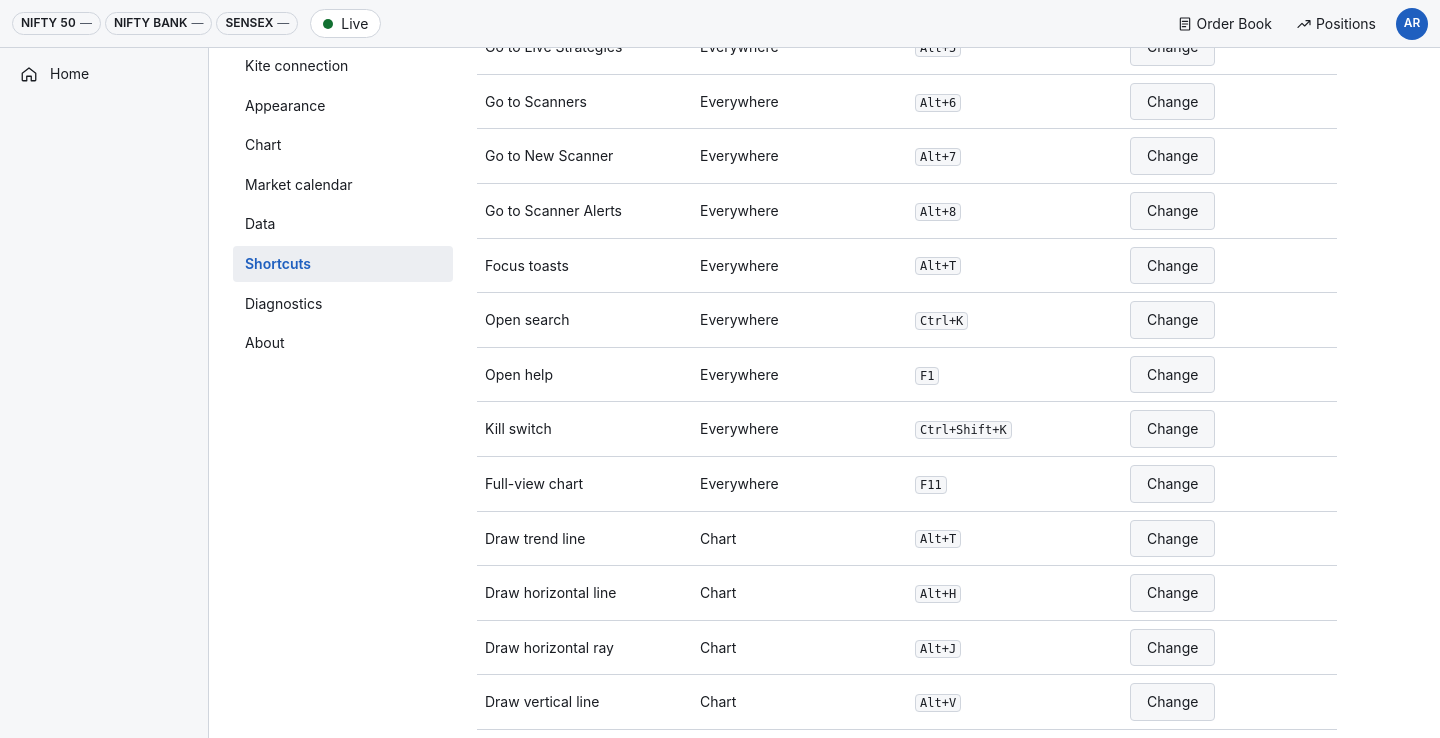
Test case: FR-SHELL-019 Settings → Shortcuts › Task 6 carry-forward: a key Go does not accept (NumpadAdd, IntlBackslash) is explained and cannot be saved
(page scrolled)
Click the button named "Change shortcut for Kill switch" at (1173,429), box top-left (1130, 410), bottom-right (1215, 448)
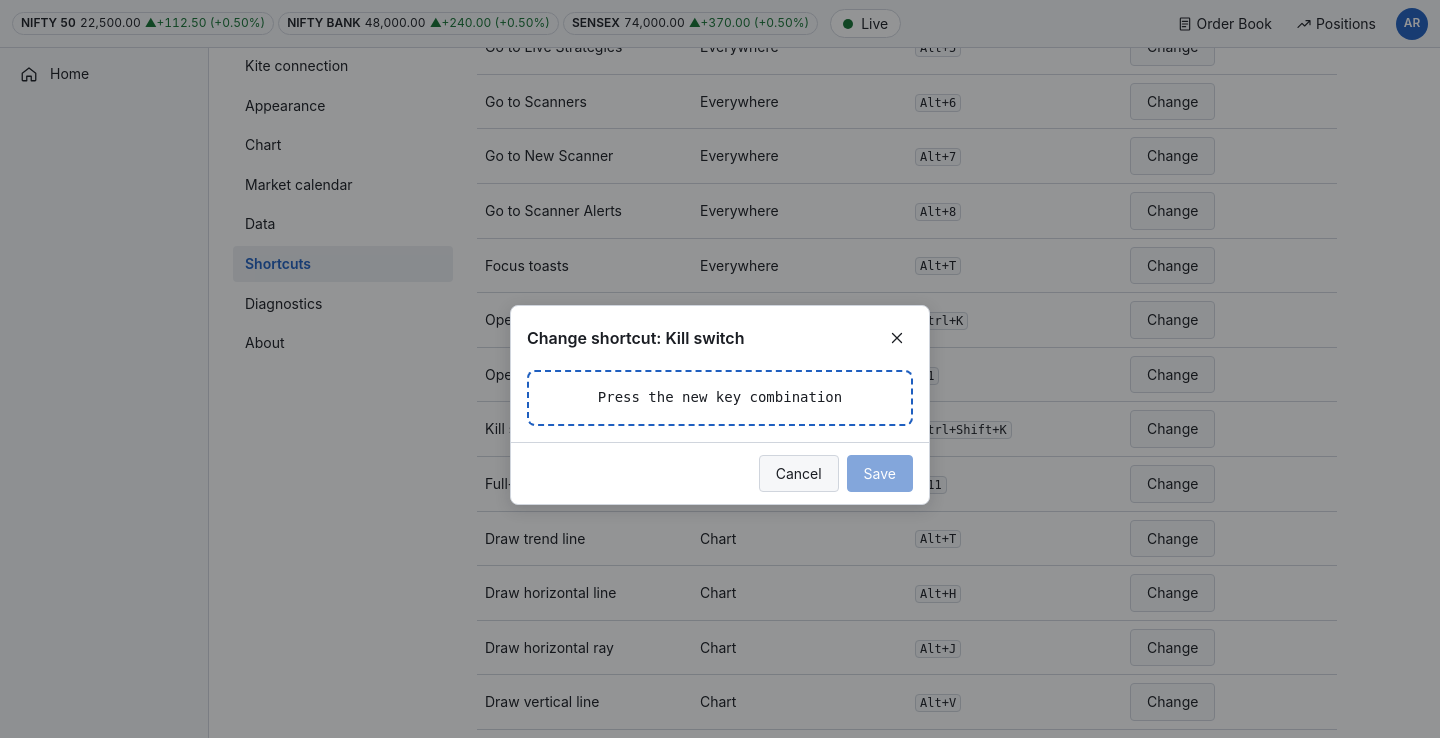
Press + in the field named "New shortcut", box top-left (527, 370), bottom-right (913, 426)
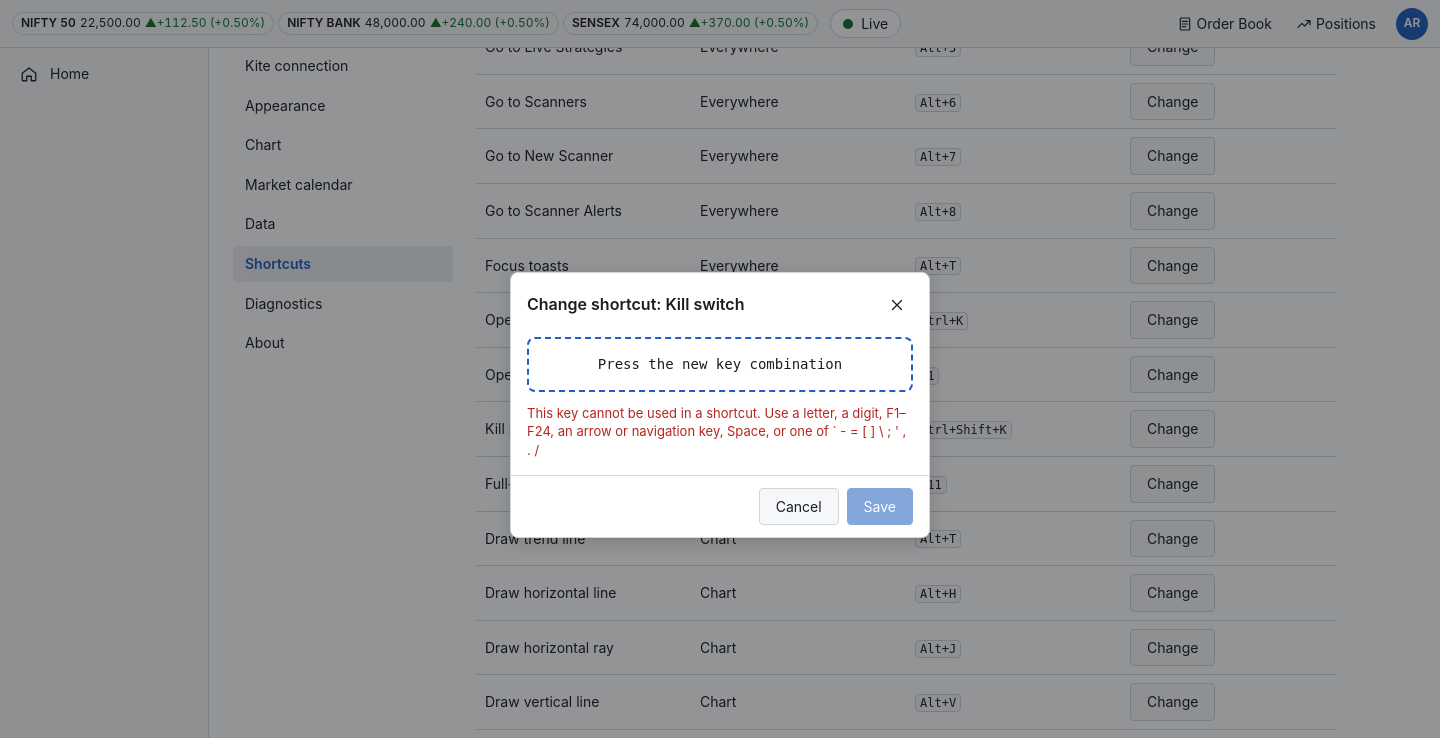
Expected: the button "Save" is disabled, top-left (847, 488), bottom-right (913, 525)
Expected: the message shows "This key cannot be used in a shortcut", top-left (527, 405), bottom-right (906, 458)
Press < in the field named "New shortcut", box top-left (527, 337), bottom-right (913, 392)
Expected: the button "Save" is disabled, top-left (847, 488), bottom-right (913, 525)
Press Dead in the field named "New shortcut", box top-left (527, 337), bottom-right (913, 392)
Expected: the button "Save" is disabled, top-left (847, 488), bottom-right (913, 525)
A supported key clears the explanation.
Press F7 in the field named "New shortcut", box top-left (527, 337), bottom-right (913, 392)
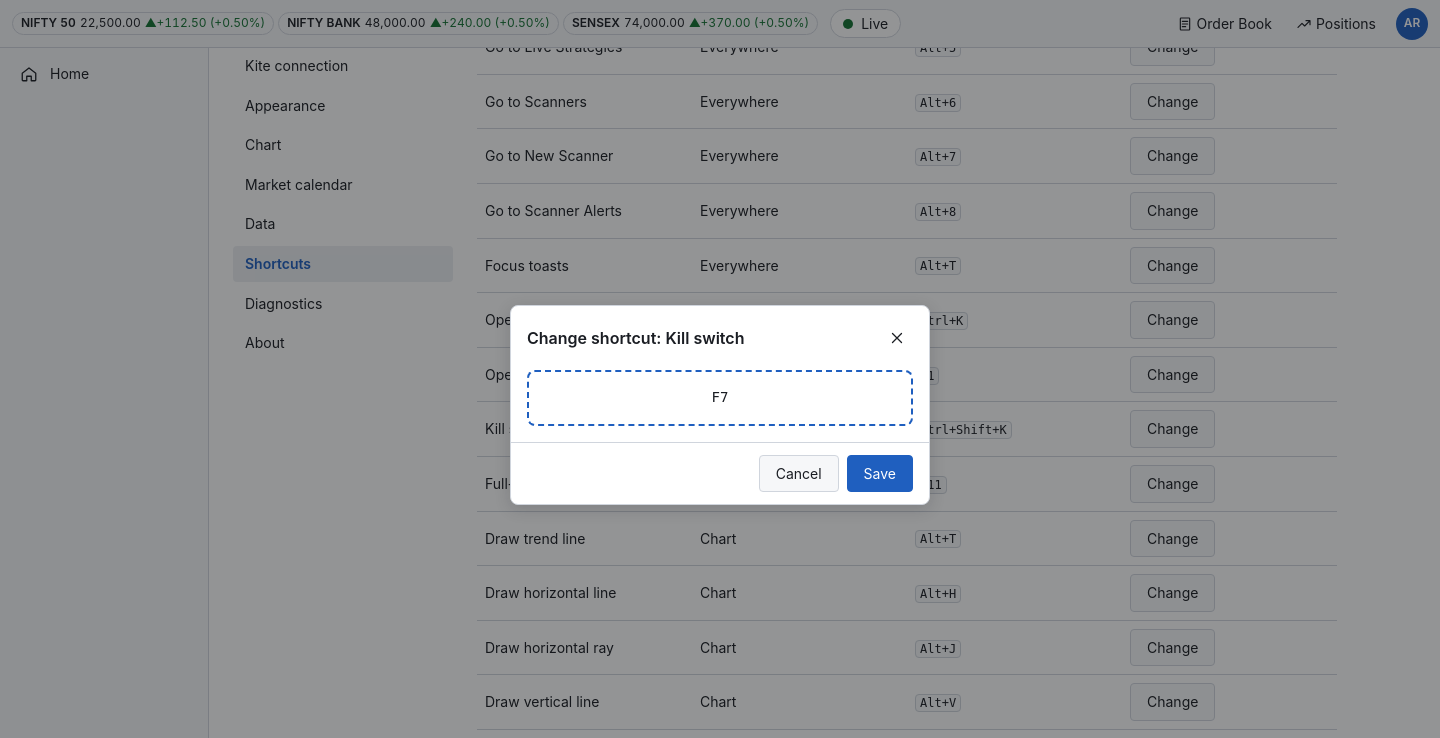
Expected: the field named "New shortcut" reads "F7", top-left (712, 389), bottom-right (728, 405)
Expected: the message is gone
Expected: the button "Save" is enabled, top-left (847, 454), bottom-right (913, 492)
